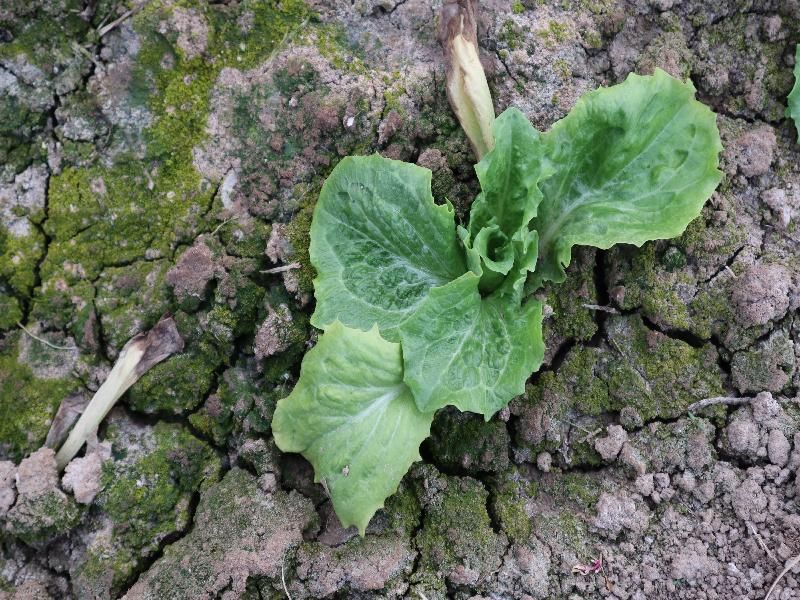lettuce: (269, 67, 725, 536)
